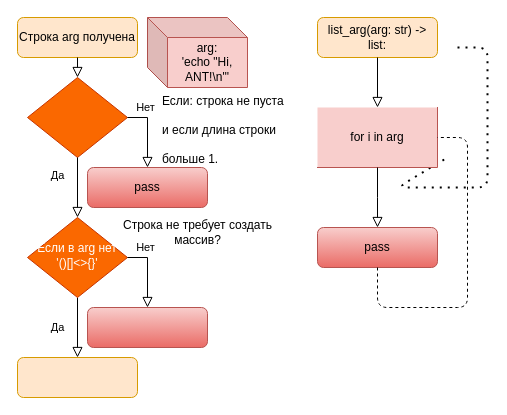
Image size: 507x415. Some labels were removed from this diagram. The centre of each missing label's shape, as x and y in pixels:
"arg != None & len(arg)>1" goes at point 77,117.
"arg = list_arg(arg)" goes at point 147,327.
"Починить люстру" goes at point 77,377.
